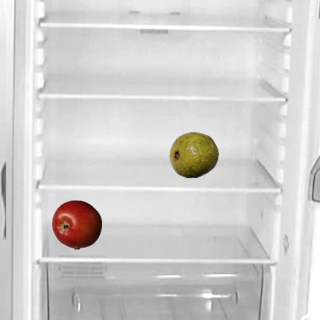Apple Braeburn: (51, 199, 101, 249)
Guava: (168, 129, 218, 179)
